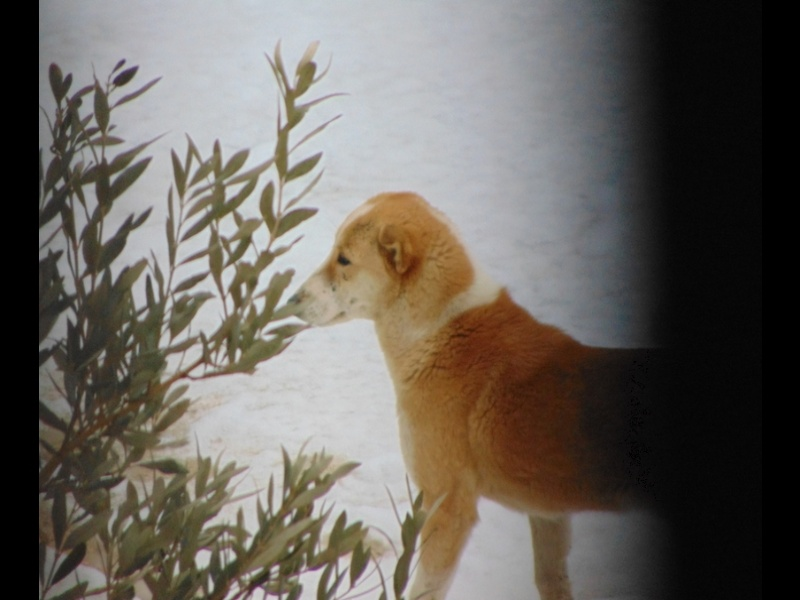dog: (283, 194, 665, 600)
